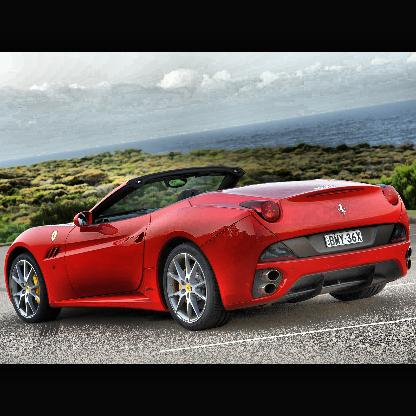Ferrari California Convertible 2012: (6, 165, 413, 331)
